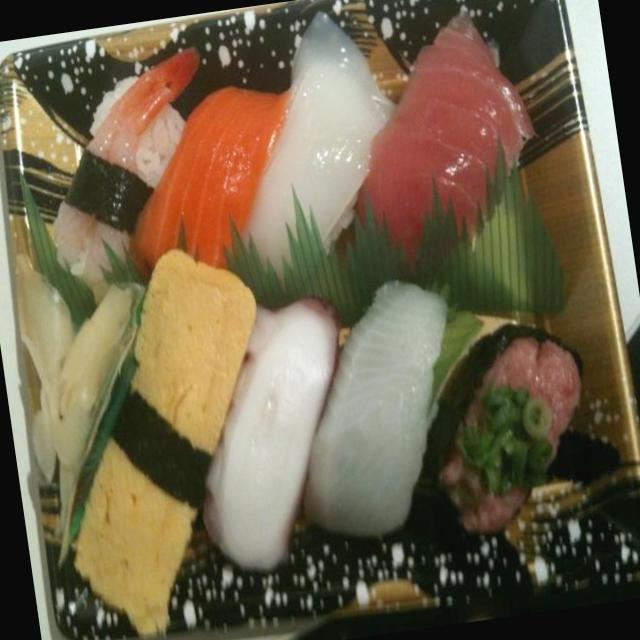Sushi: (0, 0, 640, 631)
